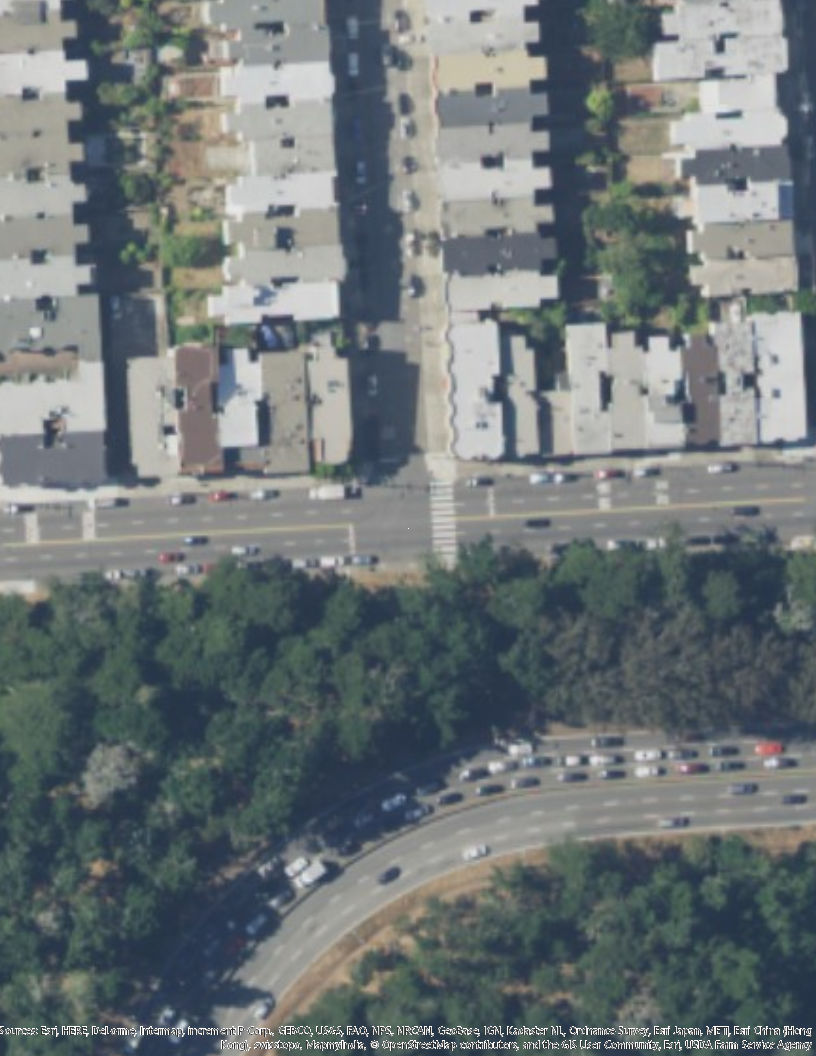zebracross: (429, 480, 460, 565)
